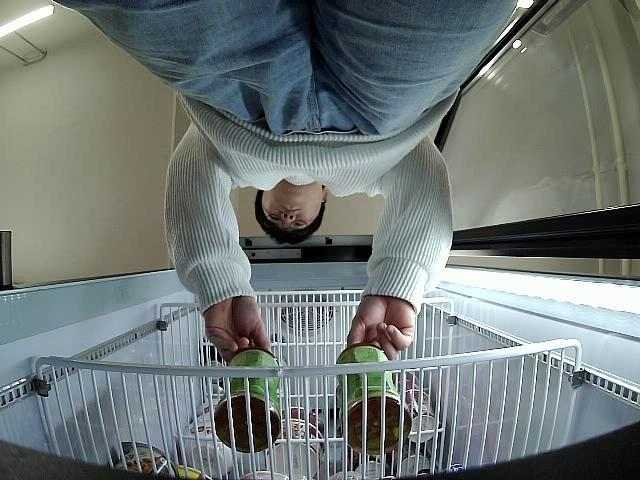19_17cha: (337, 344, 413, 458), (212, 348, 282, 456)
